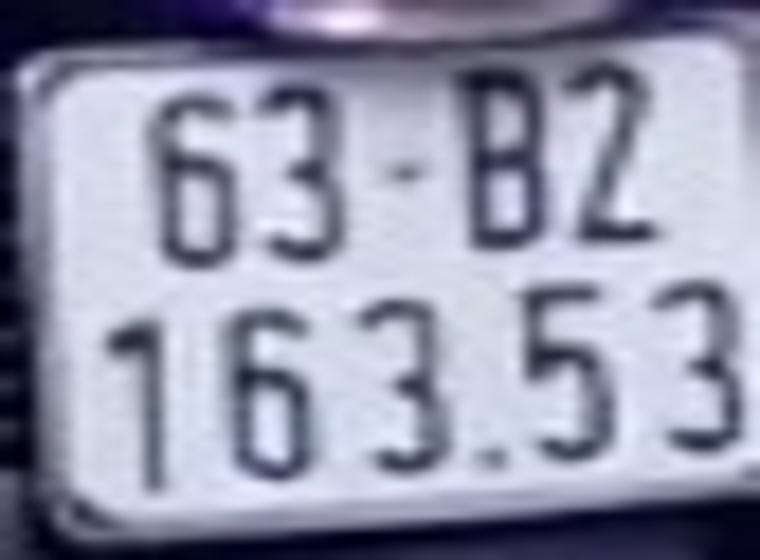-: (384, 161, 420, 181)
.: (478, 450, 505, 469)
1: (111, 319, 167, 490)
2: (569, 58, 652, 238)
3: (359, 299, 453, 474), (649, 276, 742, 452), (256, 87, 346, 265)
5: (518, 287, 612, 460)
6: (152, 91, 237, 271), (227, 307, 310, 479)
B: (458, 67, 543, 246)
